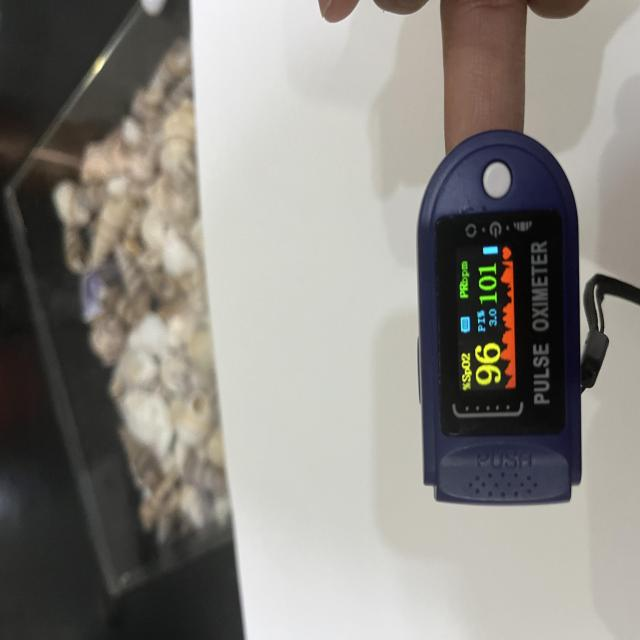spo2: (416, 128, 589, 509)
